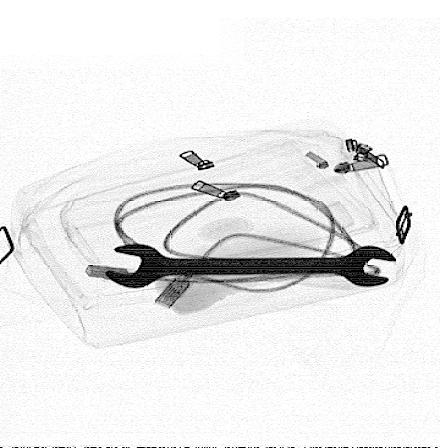Wrench: (104, 243, 395, 290)
